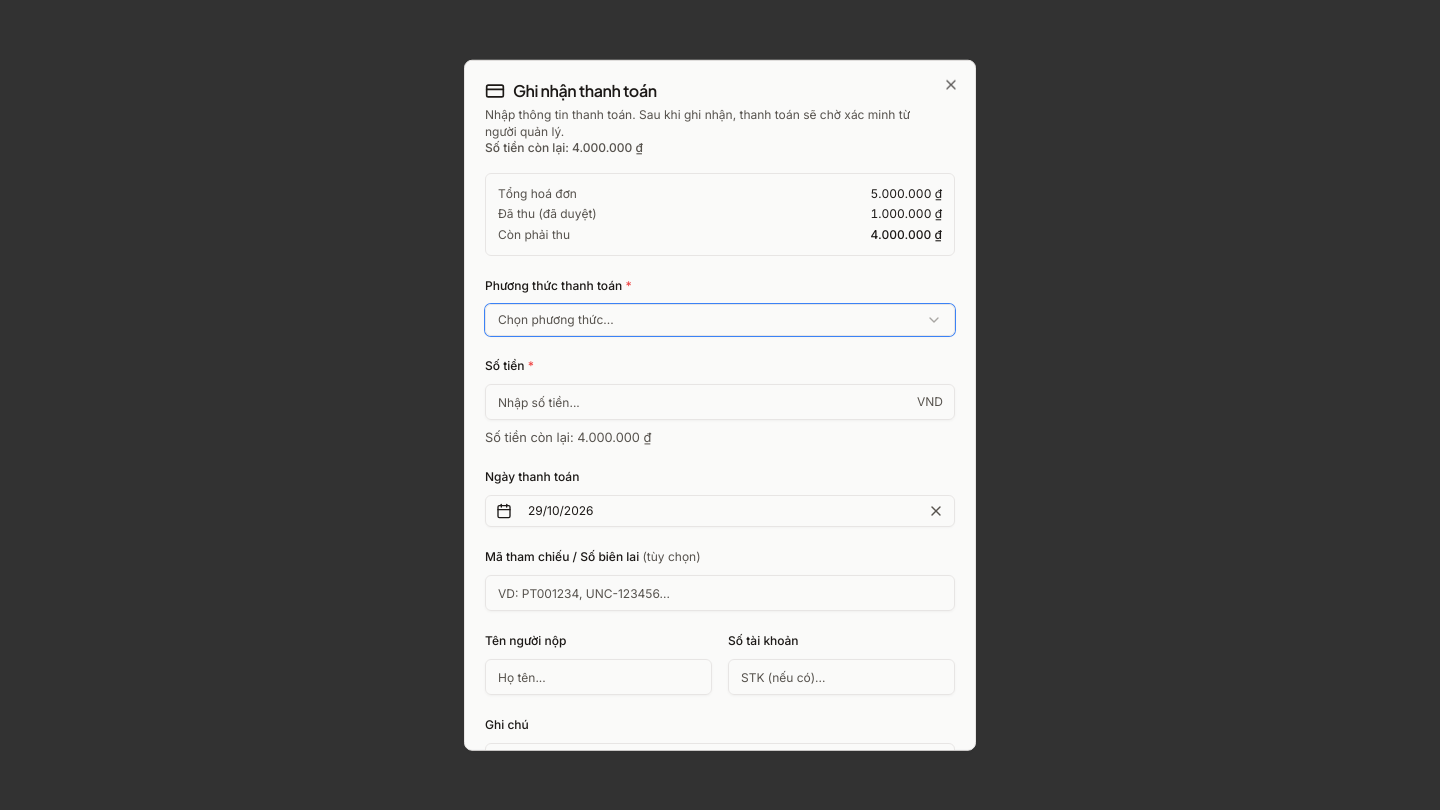
Scenario: PaymentRecordDialog — vòng xác nhận nghi trùng › xác nhận gặp 409 MỚI ⇒ thay nguyên khối và bỏ tick
Click the dropdown named "phương thức thanh toán" at (556, 319), box [485, 304, 955, 336]
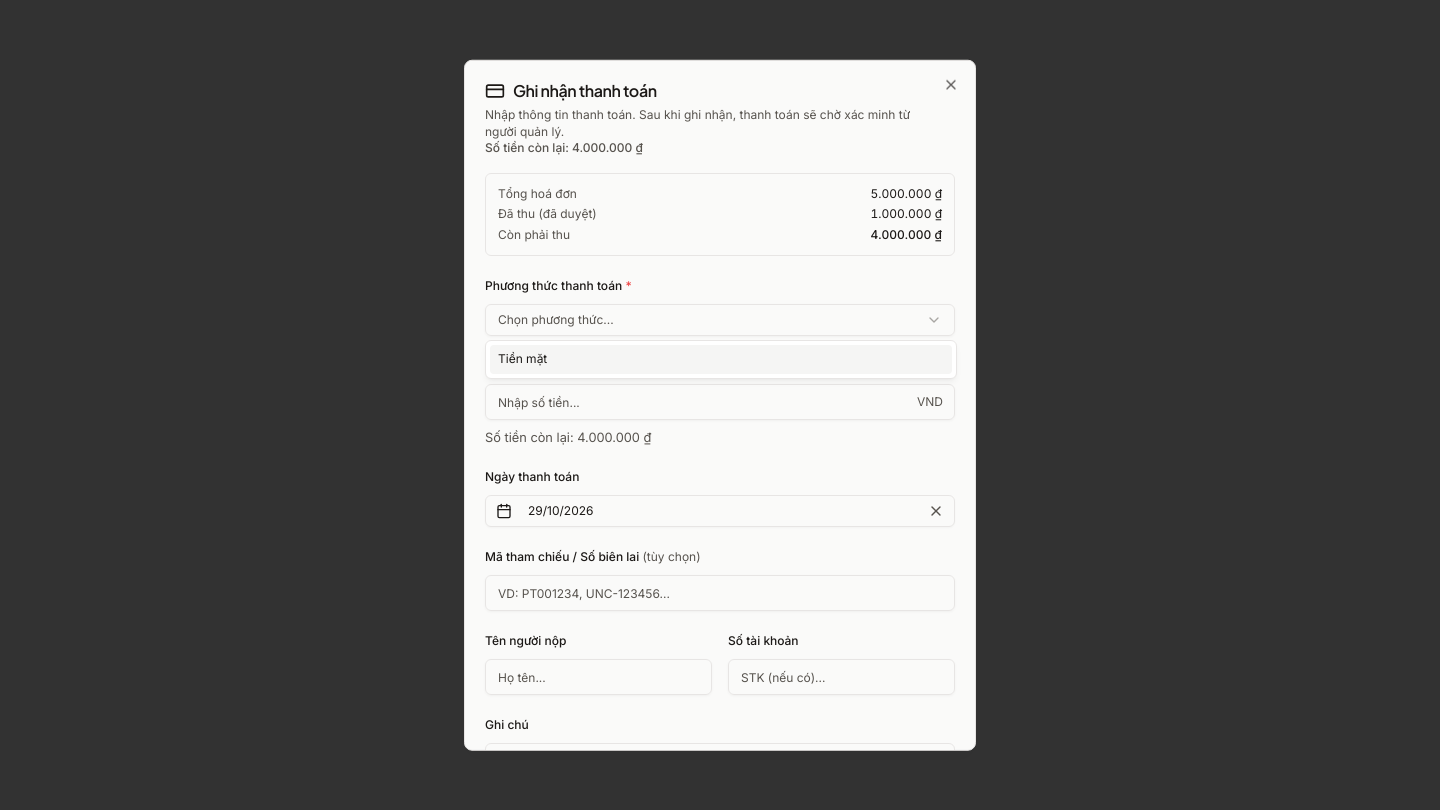
Click the option "Tiền mặt" at (523, 358), box [490, 345, 952, 374]
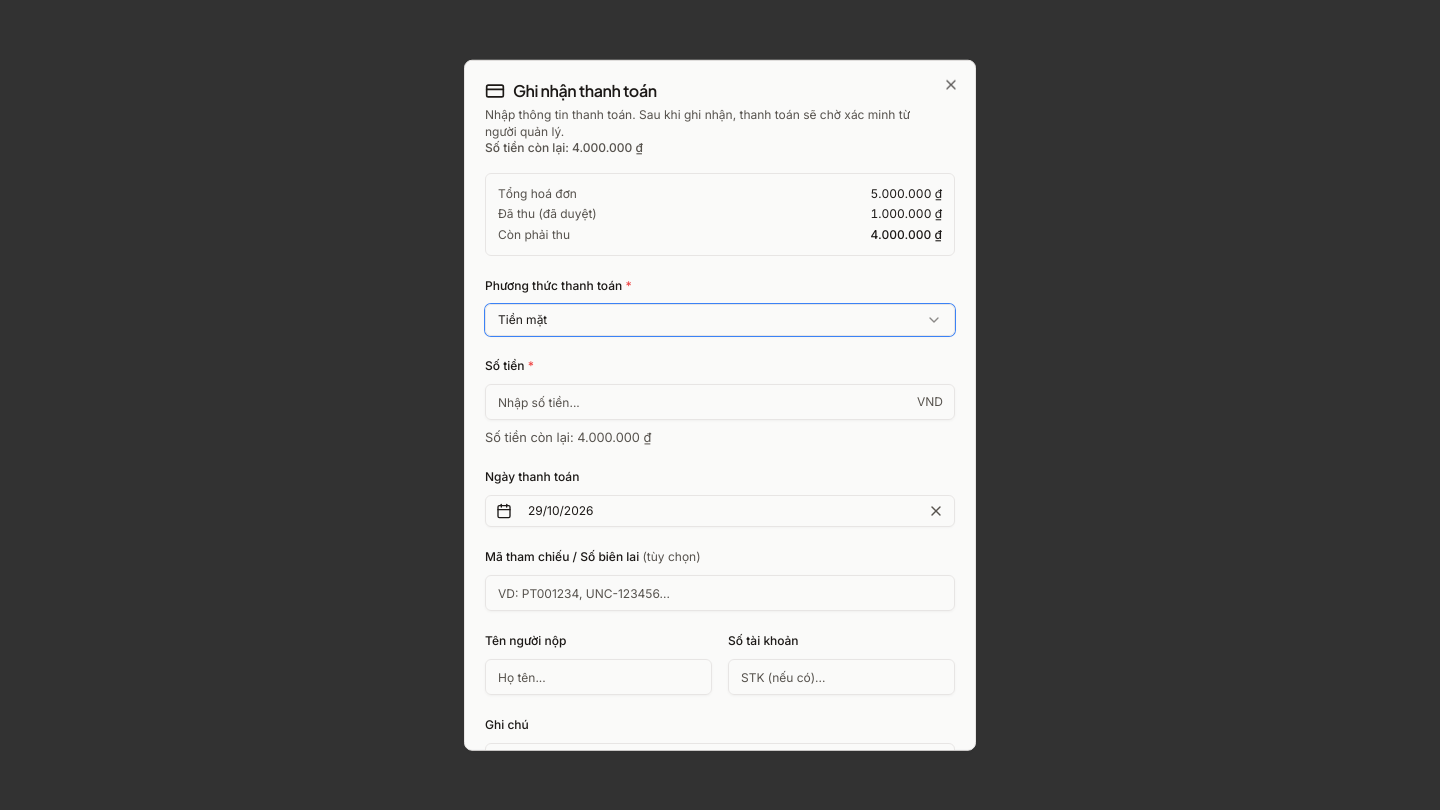
Type "1000000" into the field with placeholder "Nhập số tiền..." at (720, 402), box [485, 384, 955, 420]
(page scrolled)
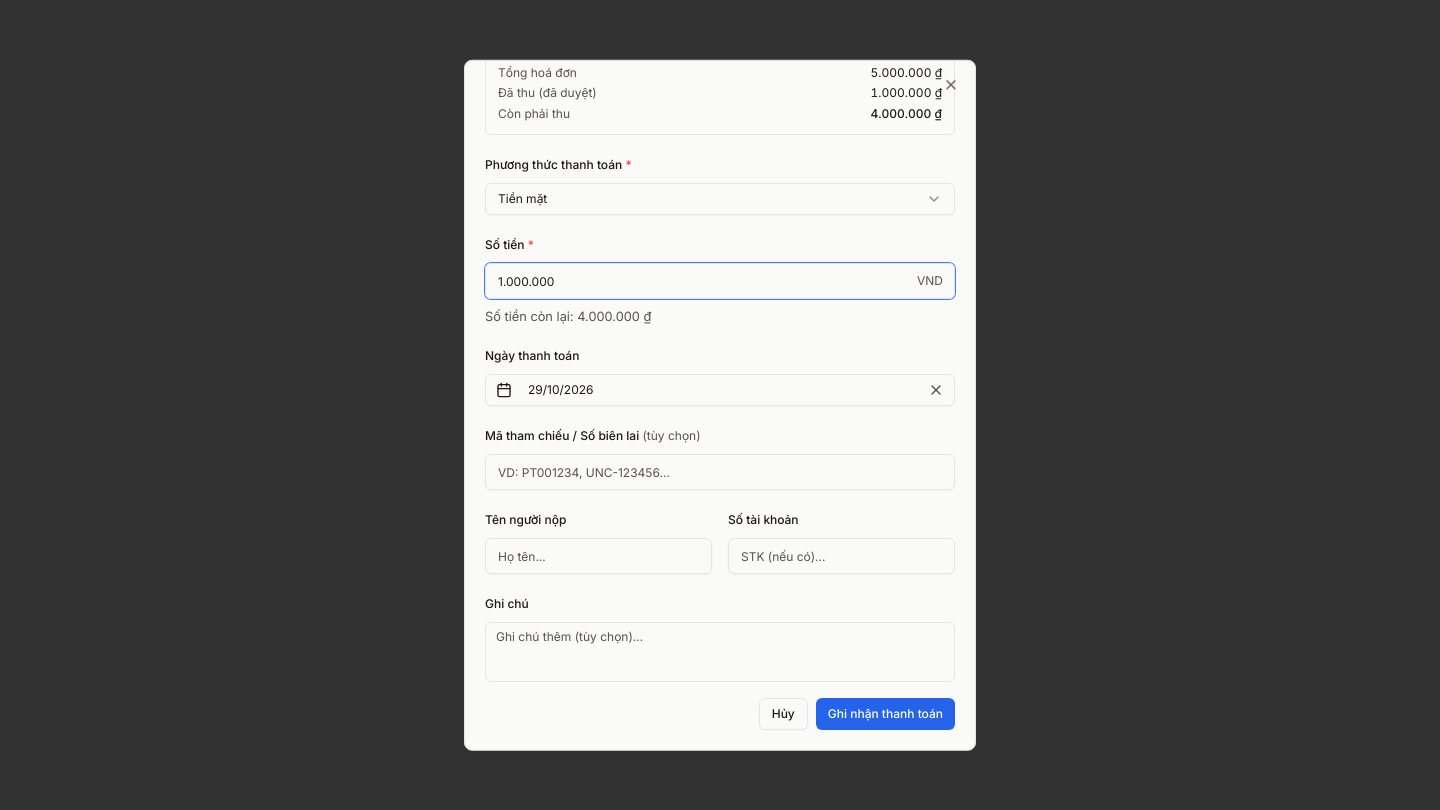
Click the button "Ghi nhận thanh toán" at (885, 714), box [816, 698, 955, 730]
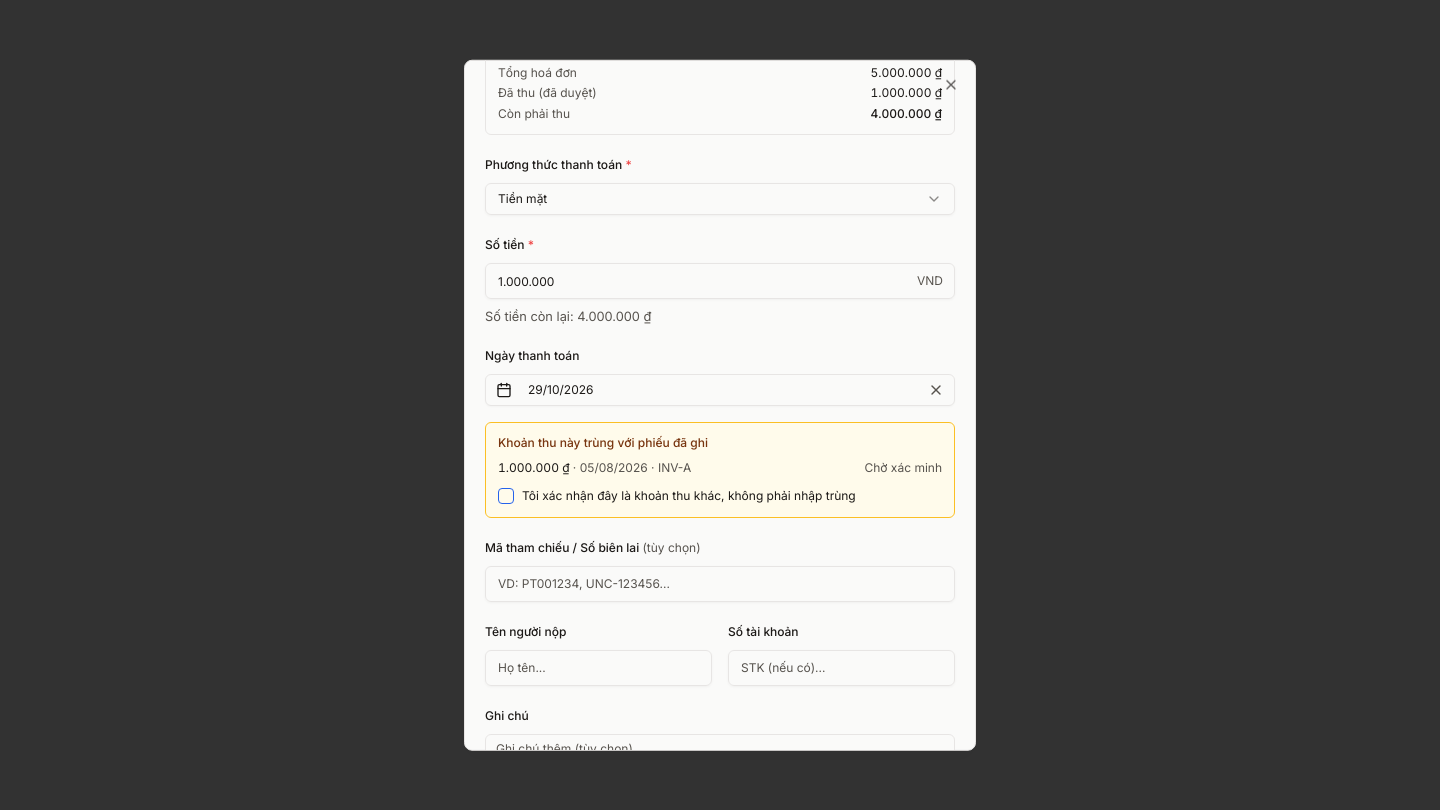
Expected: the message with test id "payment-duplicate-warning" is shown, [485, 422, 955, 517]
Click the checkbox with test id "payment-duplicate-confirm" at (506, 496), box [498, 488, 514, 504]
(page scrolled)
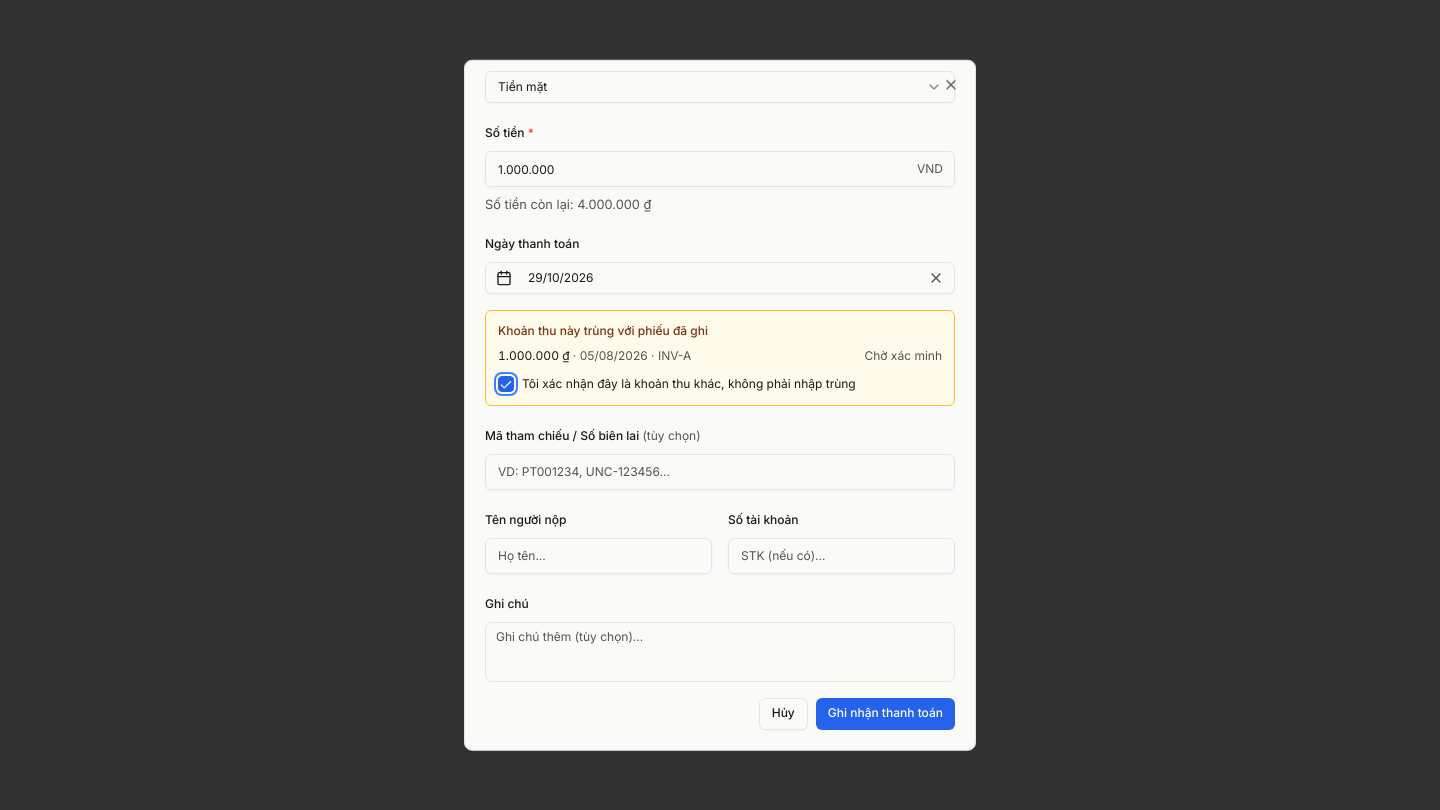
Click the button "Ghi nhận thanh toán" at (885, 713), box [816, 697, 955, 729]
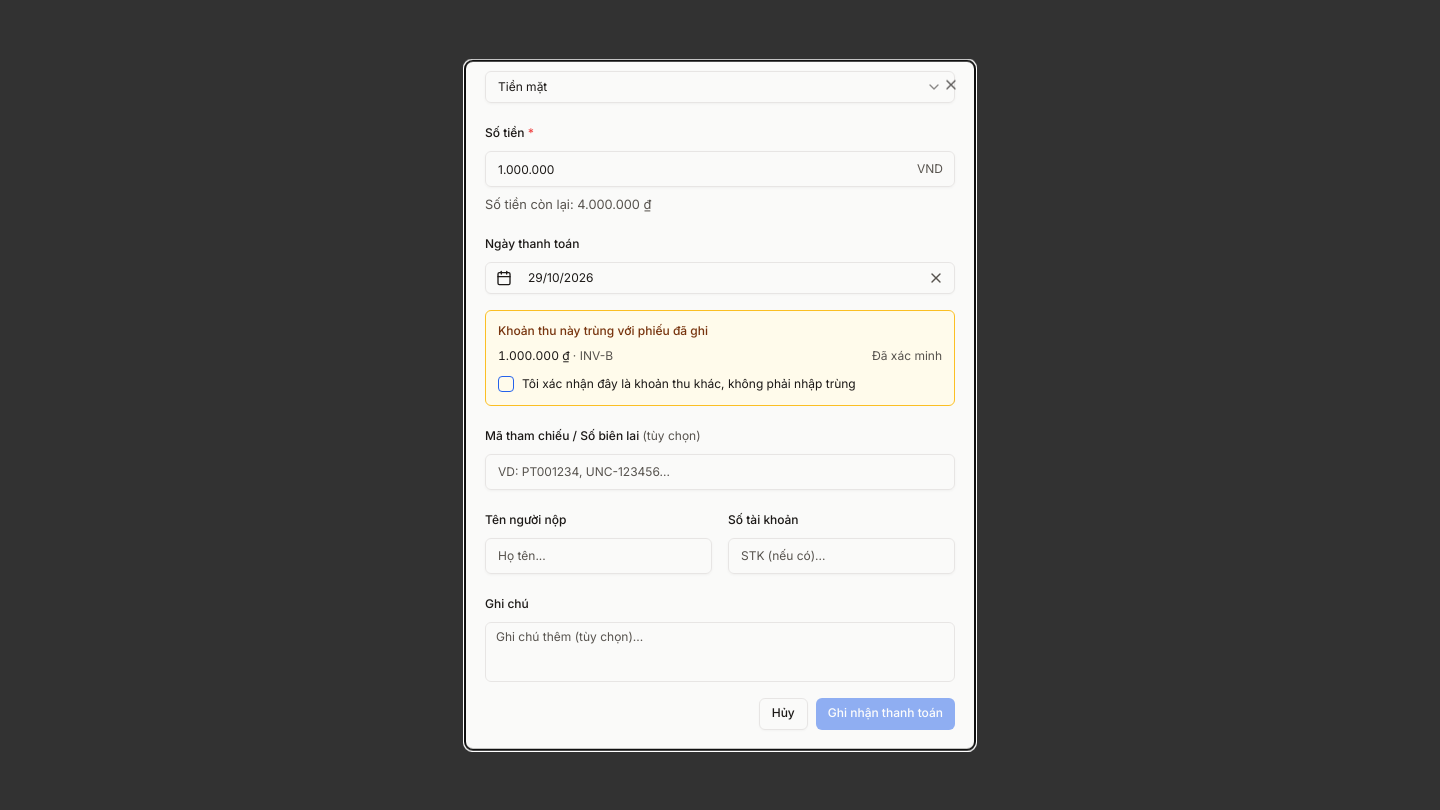
Expected: the checkbox with test id "payment-duplicate-confirm" is not checked, [498, 376, 514, 392]
Expected: the message with test id "payment-duplicate-warning" shows "INV-B", [580, 347, 613, 362]
Expected: the message with test id "payment-duplicate-warning" no longer shows "INV-A", [485, 310, 955, 405]
